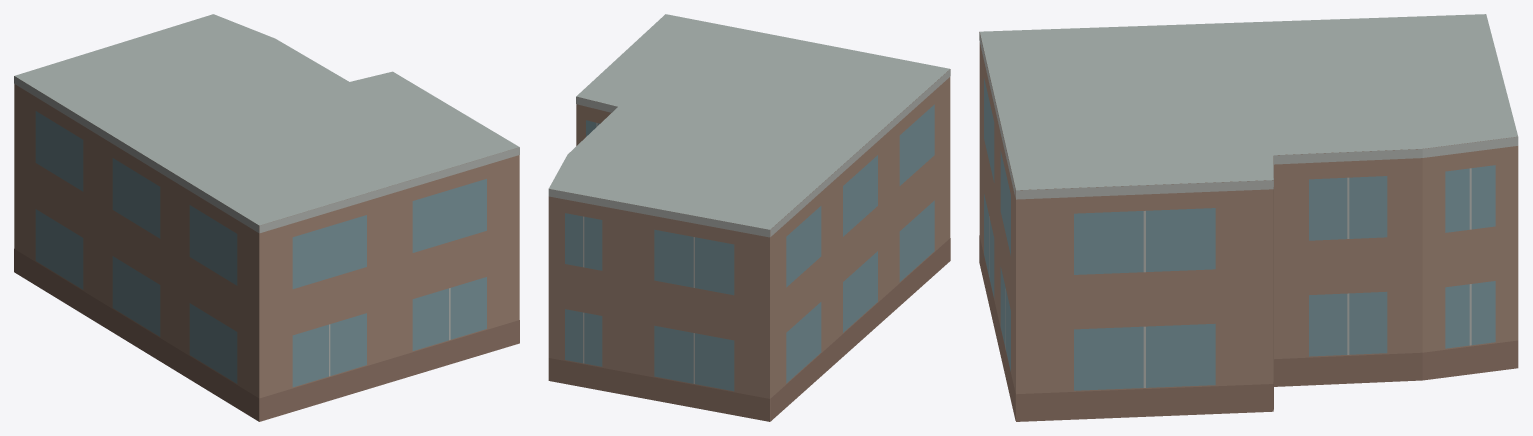
The model's file is survey-upis-32737749.glb.
3 renders of one model, left to right at view 1: azimuth 30°, elevation 25°; view 2: azimuth 150°, elevation 25°; view 3: azimuth 270°, elevation 25°, orthographic. The views are drawn at different scales.
Parts seen in each view (by area): view 1: survey-upis-32737749.tmp; view 2: survey-upis-32737749.tmp; view 3: survey-upis-32737749.tmp.
Part boxes in pixels (x1=…): survey-upis-32737749.tmp: x1=14, y1=14, x2=519, y2=421; survey-upis-32737749.tmp: x1=548, y1=14, x2=950, y2=421; survey-upis-32737749.tmp: x1=979, y1=14, x2=1518, y2=421.
Size of the model in its own units: 9.97 by 6.1 by 12.87.
